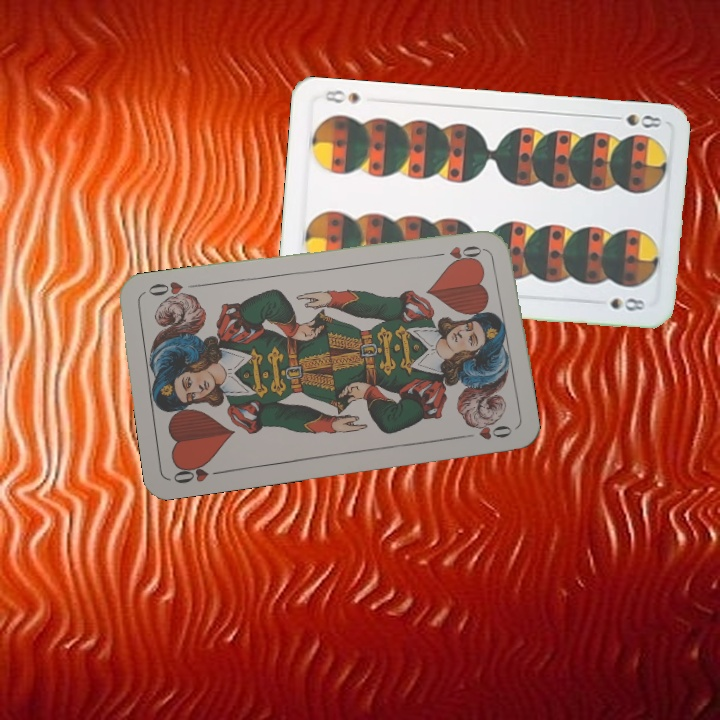HO: (169, 458, 227, 487), (429, 241, 489, 263)
S8: (605, 110, 664, 131)
